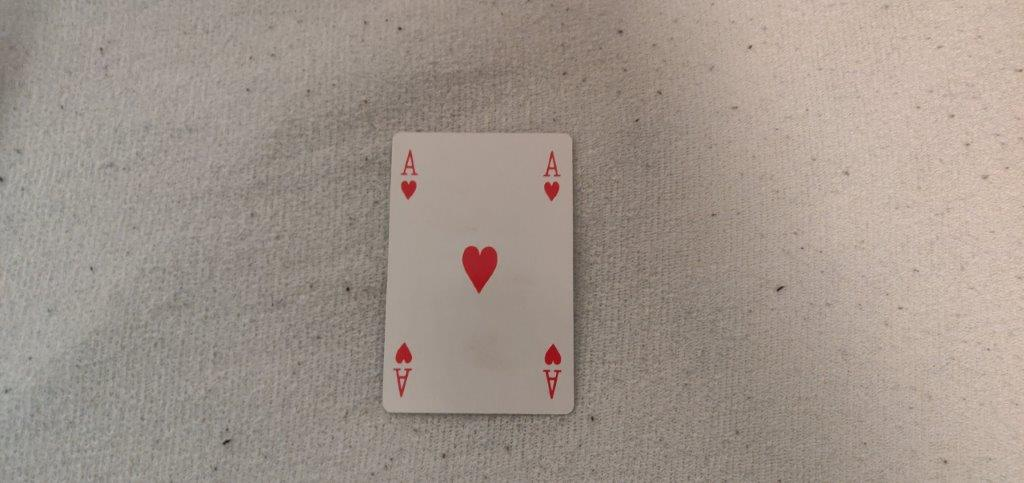AH: (396, 146, 425, 204), (541, 144, 562, 204)
